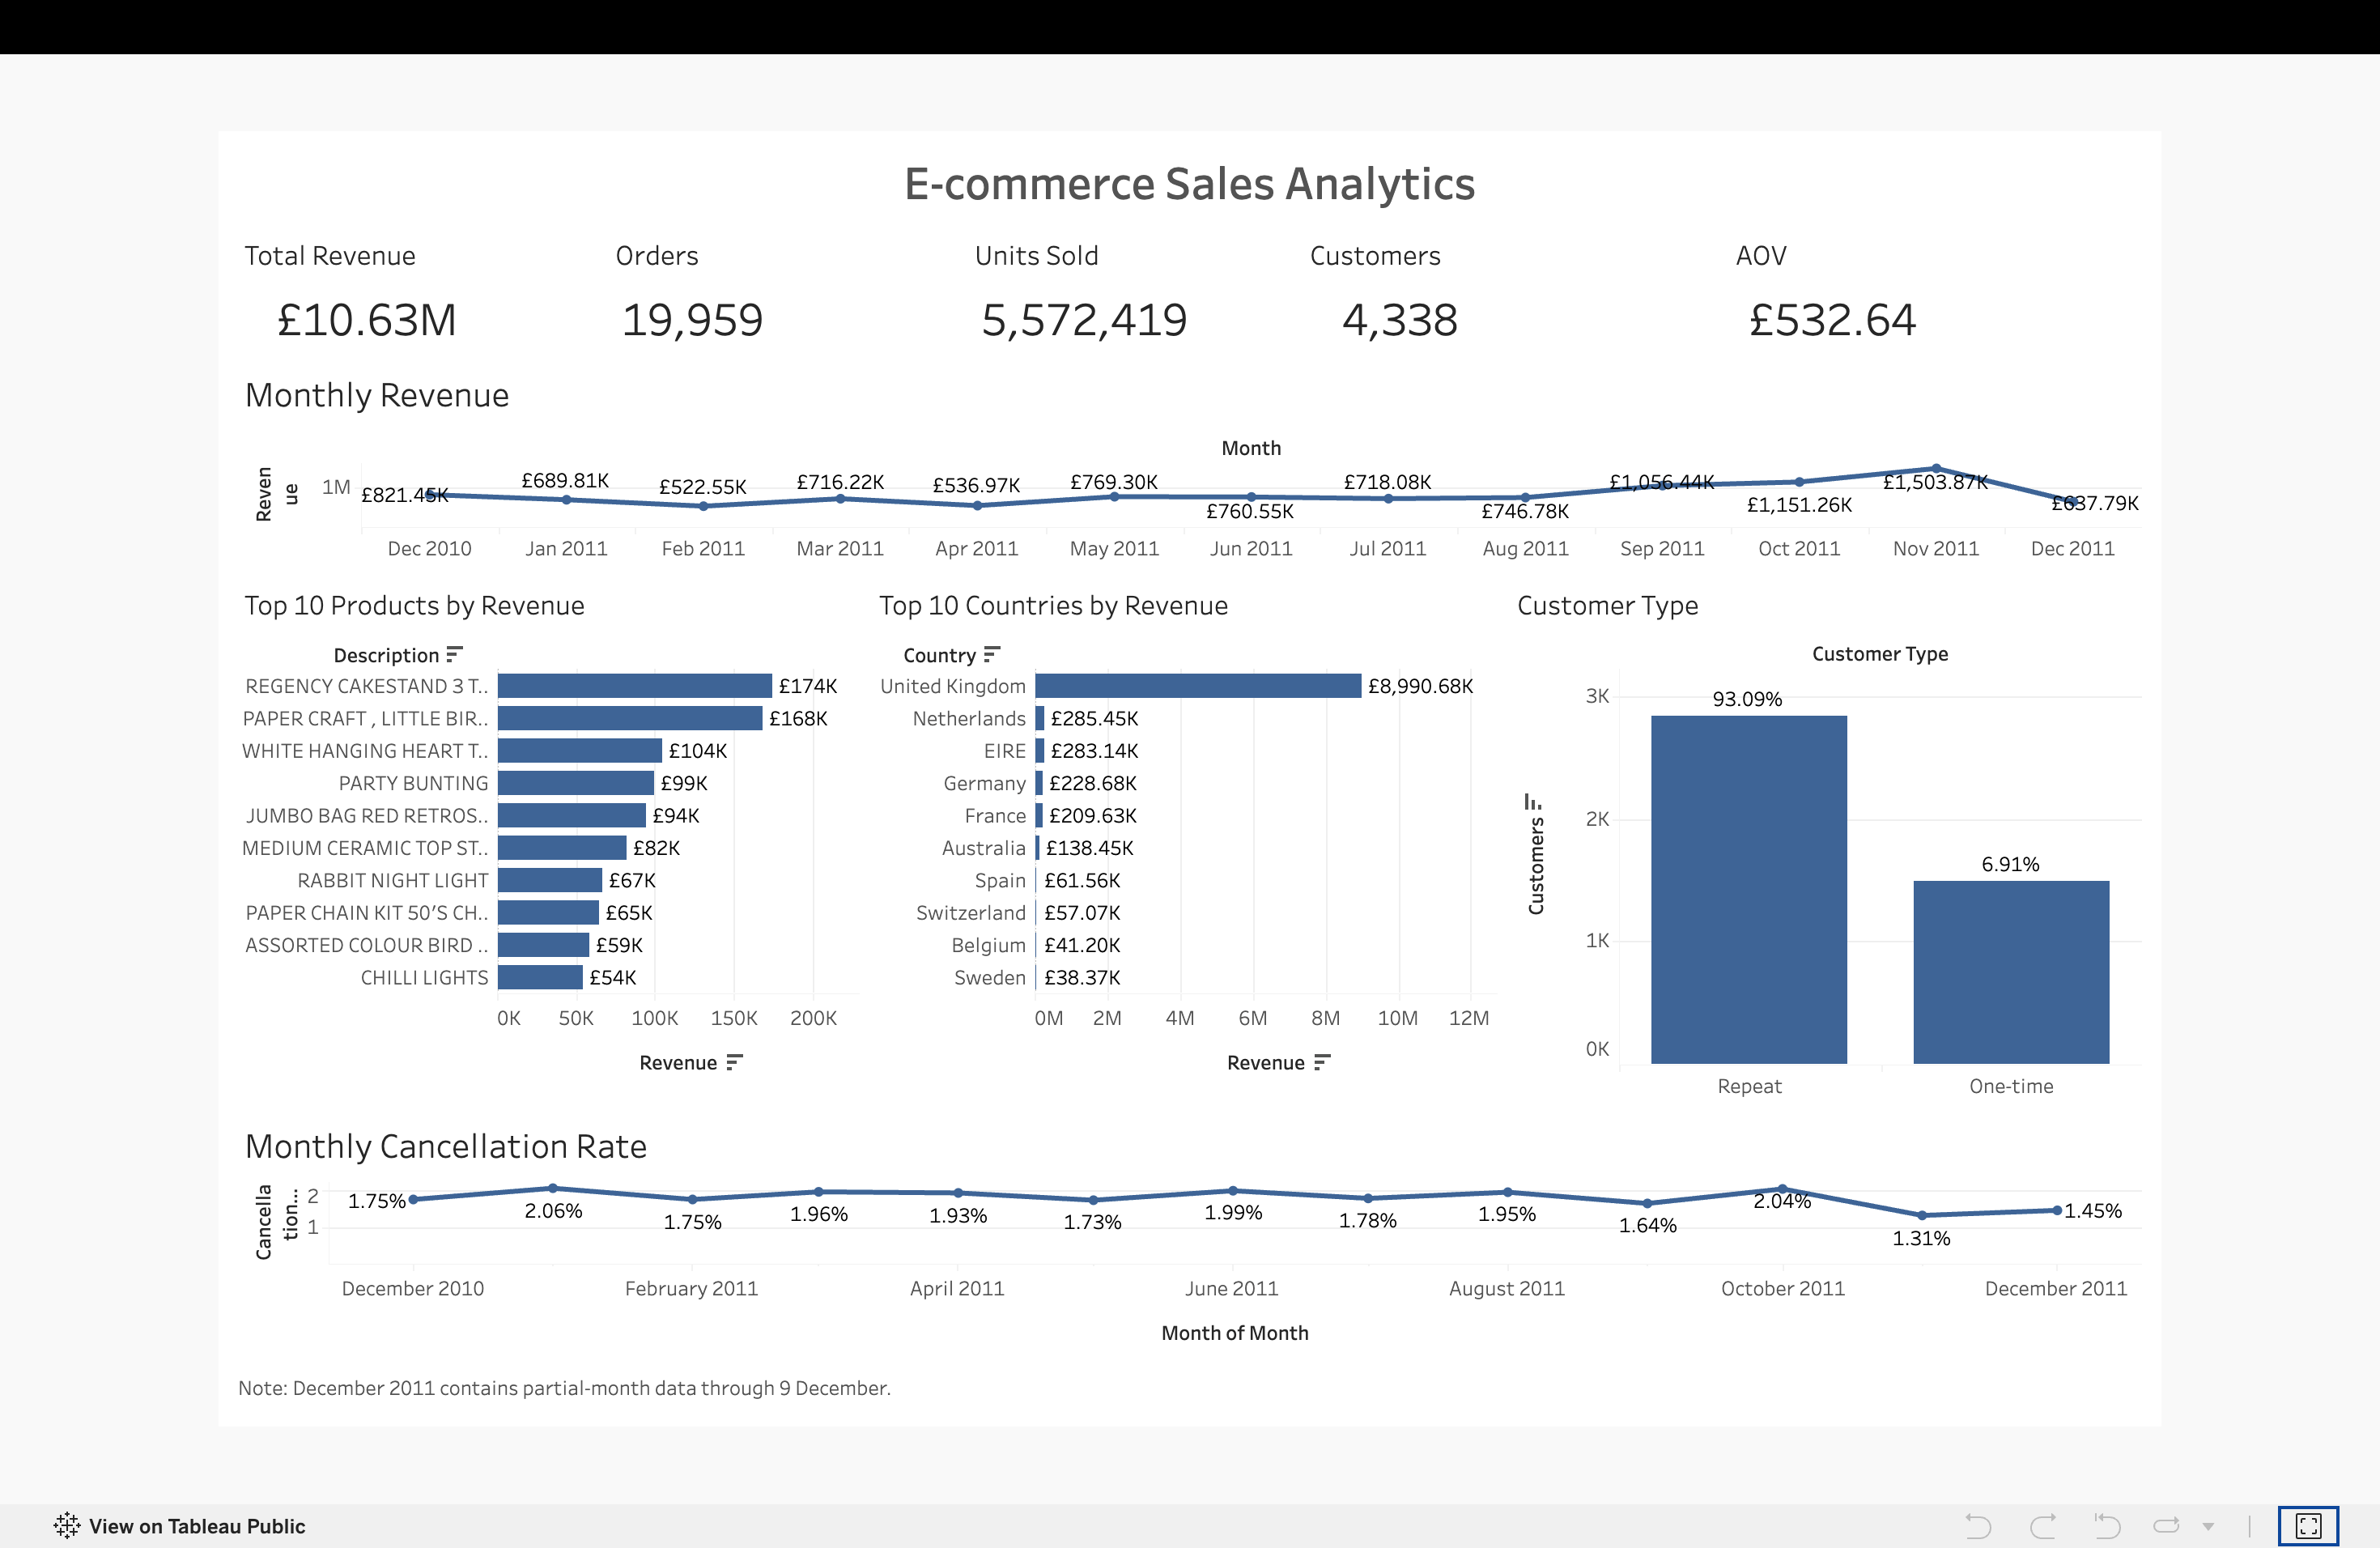

This screenshot's page, from the dashboard's own definition file:
{"tool":"tableau","page":{"name":"E-commerce Sales Dashboard","canvas":[1200,800],"ordinal":0},"visuals":[{"type":"text","box":[8,8,1184,45]},{"type":"worksheet","title":"KPI Revenue","mark":"Automatic","box":[8,53,229,84]},{"type":"worksheet","title":"KPI Orders","mark":"Automatic","box":[237,53,222,84]},{"type":"worksheet","title":"KPI Units","mark":"Automatic","box":[459,53,207,84]},{"type":"worksheet","title":"KPI Customers","mark":"Automatic","box":[666,53,263,84]},{"type":"worksheet","title":"KPI AOV","mark":"Automatic","box":[929,53,263,84]},{"type":"worksheet","title":"Monthly Revenue","mark":"Line","rows":["Revenue"],"cols":["Month"],"box":[8,137,1184,133.2]},{"type":"worksheet","title":"Top Products","mark":"Automatic","rows":["description"],"cols":["revenue"],"box":[8,270.2,392,331.8]},{"type":"worksheet","title":"Country Revenue","mark":"Automatic","rows":["country"],"cols":["revenue"],"box":[400,270.2,394,331.8]},{"type":"worksheet","title":"Customer Type","mark":"Automatic","rows":["customers"],"cols":["customer_type"],"box":[794,270.2,398,331.8]},{"type":"worksheet","title":"Cancellation Trend","mark":"Line","rows":["cancellation_rate_pct"],"cols":["month"],"box":[8,602,1184,158]},{"type":"text","box":[8,760,1184,32]}]}

Visuals, with their boxes on the page's 1200x800 design canvas (x1, y1, x2, y2). These are canvas units, not pixel positions in the 2380x1548 screenshot, which may show the page scaled, cropped or inside an application window:
text: (8,8,1192,53)
"KPI Revenue" worksheet: (8,53,237,137)
"KPI Orders" worksheet: (237,53,459,137)
"KPI Units" worksheet: (459,53,666,137)
"KPI Customers" worksheet: (666,53,929,137)
"KPI AOV" worksheet: (929,53,1192,137)
"Monthly Revenue" worksheet (Line marks): (8,137,1192,270)
"Top Products" worksheet: (8,270,400,602)
"Country Revenue" worksheet: (400,270,794,602)
"Customer Type" worksheet: (794,270,1192,602)
"Cancellation Trend" worksheet (Line marks): (8,602,1192,760)
text: (8,760,1192,792)
